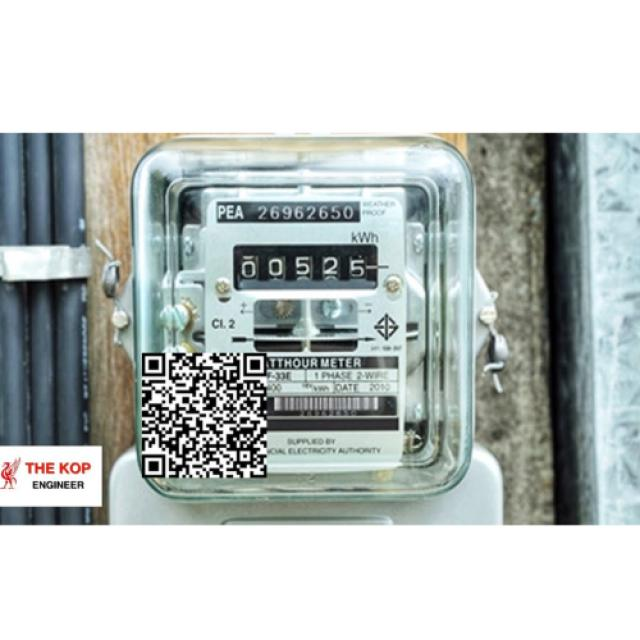qr_code: (141, 352, 270, 477)
